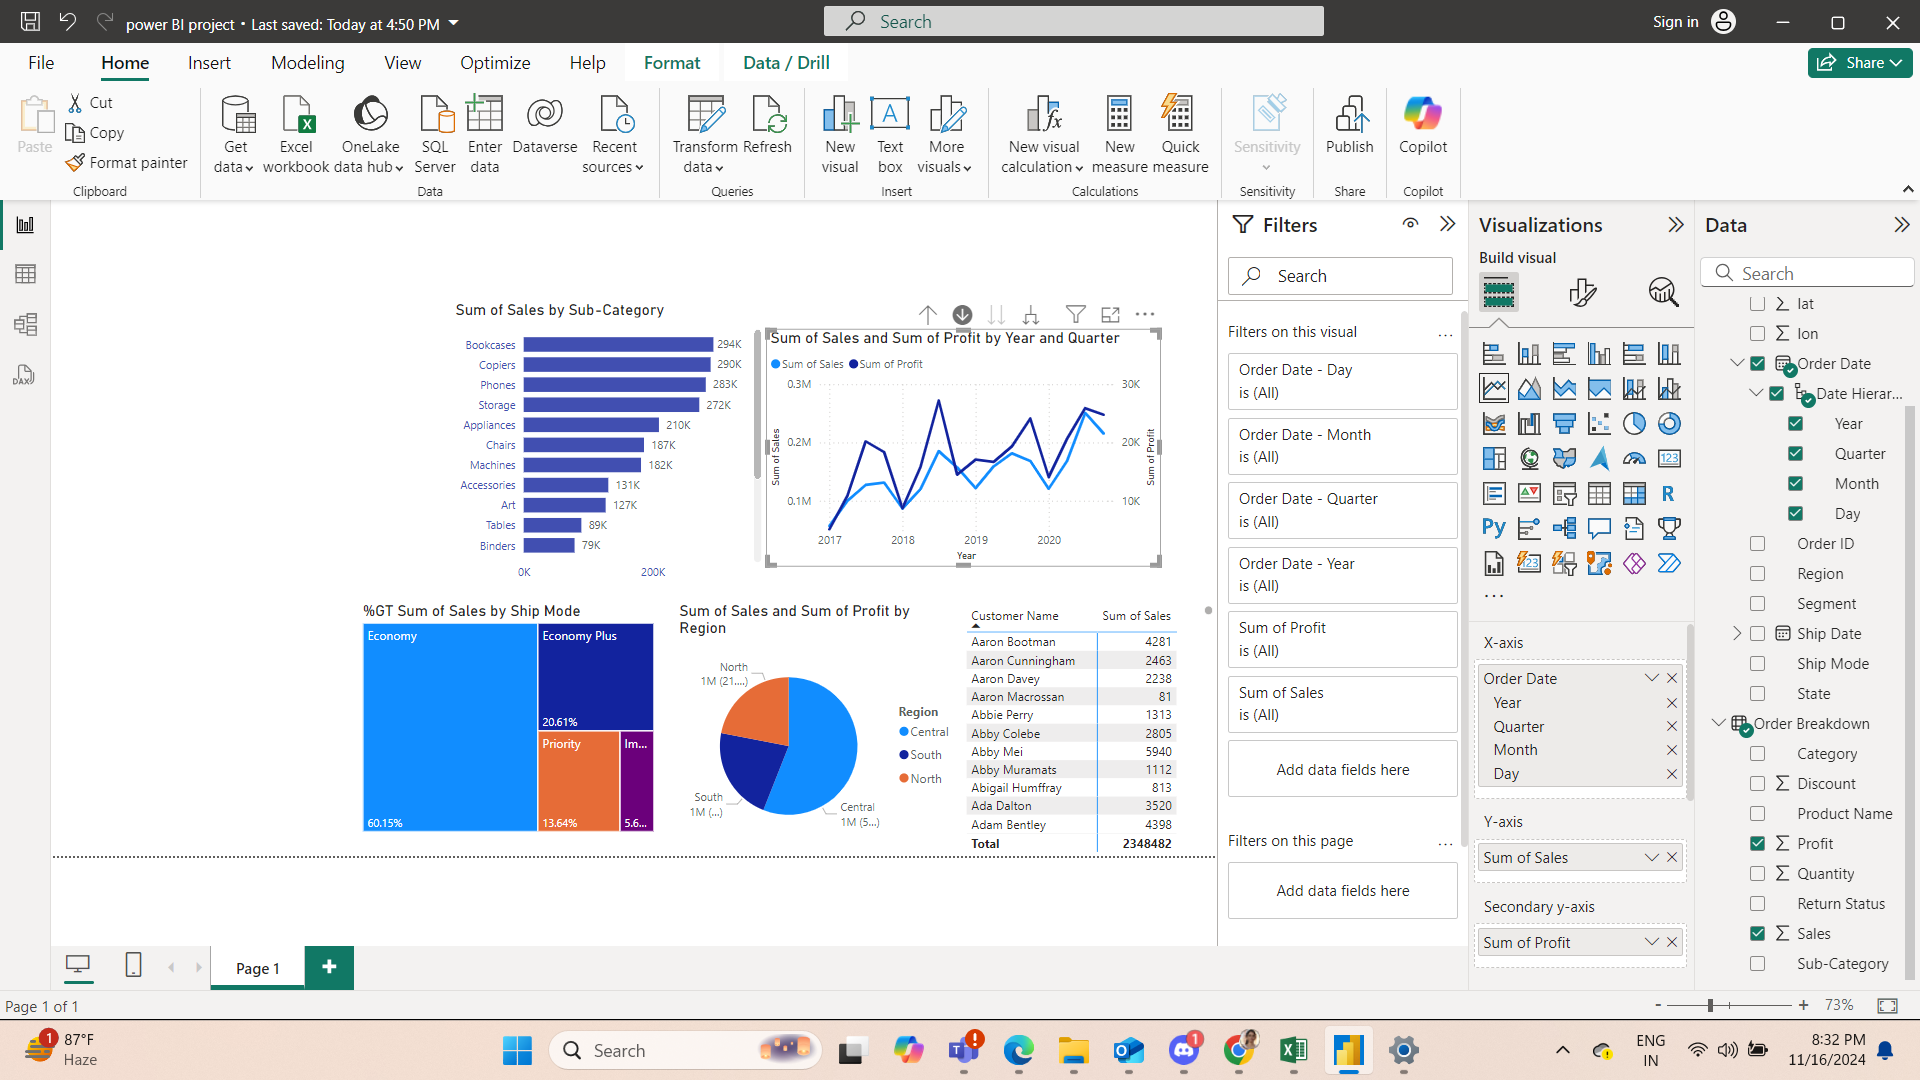

The dashboard page shown, as its layout file describes it:
{"tool":"powerbi","page":{"name":"Page 1","canvas":[1280,720],"ordinal":0},"visuals":[{"type":"pivotTable","fields":{"Rows":["List of Orders.Customer Name"],"Values":["Sum(Order Breakdown.Sales)"]},"box":[1000.3,440.5,279.9,279.9],"z":0},{"type":"clusteredBarChart","title":" Sales by Sub-Category","fields":{"Category":["Order Breakdown.Sub-Category","Order Breakdown.Profit"],"Y":["Sum(Order Breakdown.Sales)"]},"box":[347.5,128.8,437.5,297.5],"z":1000},{"type":"pieChart","title":" Sales and Profit by Region","fields":{"Category":["List of Orders.Region"],"Y":["Sum(Order Breakdown.Sales)"]},"box":[684.7,440.5,315.6,279.9],"z":2000},{"type":"treemap","title":"%GT of Sales by Ship Mode","fields":{"Values":["Sum(Order Breakdown.Sales)"],"Group":["List of Orders.Ship Mode"]},"box":[337.6,440.5,329.3,258],"z":3000},{"type":"lineStackedColumnComboChart","title":"Count of Region  and Profit by Year, Quarter and Region","fields":{"Y2":["Sum(Order Breakdown.Profit)"],"Y":["CountNonNull(List of Orders.Region)"],"Category":["List of Orders.Order Date.Variation.Date Hierarchy.Year","List of Orders.Order Date.Variation.Date Hierarchy.Quarter"],"Series":["List of Orders.Region"]},"box":[842.5,129,437.7,311.5],"z":4000},{"type":"map","title":"Sales by location","fields":{"Category":["List of Orders.Country","List of Orders.State","List of Orders.City"],"Size":["Sum(Order Breakdown.Sales)"]},"box":[0,381.2,347.5,316.2],"z":5000},{"type":"card","fields":{"Values":["Sum(Order Breakdown.Sales)"]},"box":[358.8,0,240,128.8],"z":5001},{"type":"card","fields":{"Values":["Sum(Order Breakdown.Profit)"]},"box":[598.8,0,243.8,130],"z":5003},{"type":"card","fields":{"Values":["Sum(Order Breakdown.Quantity)"]},"box":[842.5,0,218.8,128.8],"z":5004},{"type":"card","fields":{"Values":["CountNonNull(List of Orders.Order ID)"]},"box":[1061.2,0,218.8,128.8],"z":5005},{"type":"image","box":[0,0,105,138.8],"z":5006},{"type":"textbox","box":[100,48.8,258.8,45],"z":5007},{"type":"slicer","fields":{"Values":["List of Orders.Order Date"]},"box":[0,138.8,337.5,106.2],"z":5008},{"type":"slicer","fields":{"Values":["List of Orders.Ship Date"]},"box":[0,245,337.5,115],"z":5009}]}

Visuals, with their boxes on the page's 1280x720 design canvas (x1, y1, x2, y2). These are canvas units, not pixel positions in the 1920x1080 screenshot, which may show the page scaled, cropped or inside an application window:
pivotTable - List of Orders.Customer Name x Sum(Order Breakdown.Sales): Rect(1000, 440, 1280, 720)
" Sales by Sub-Category" clusteredBarChart: Rect(348, 129, 785, 426)
" Sales and Profit by Region" pieChart: Rect(685, 440, 1000, 720)
"%GT of Sales by Ship Mode" treemap: Rect(338, 440, 667, 698)
"Count of Region  and Profit by Year, Quarter and Region" lineStackedColumnComboChart: Rect(842, 129, 1280, 440)
"Sales by location" map: Rect(0, 381, 348, 697)
card - Sum(Order Breakdown.Sales): Rect(359, 0, 599, 129)
card - Sum(Order Breakdown.Profit): Rect(599, 0, 843, 130)
card - Sum(Order Breakdown.Quantity): Rect(842, 0, 1061, 129)
card - CountNonNull(List of Orders.Order ID): Rect(1061, 0, 1280, 129)
image: Rect(0, 0, 105, 139)
textbox: Rect(100, 49, 359, 94)
slicer - List of Orders.Order Date: Rect(0, 139, 338, 245)
slicer - List of Orders.Ship Date: Rect(0, 245, 338, 360)
